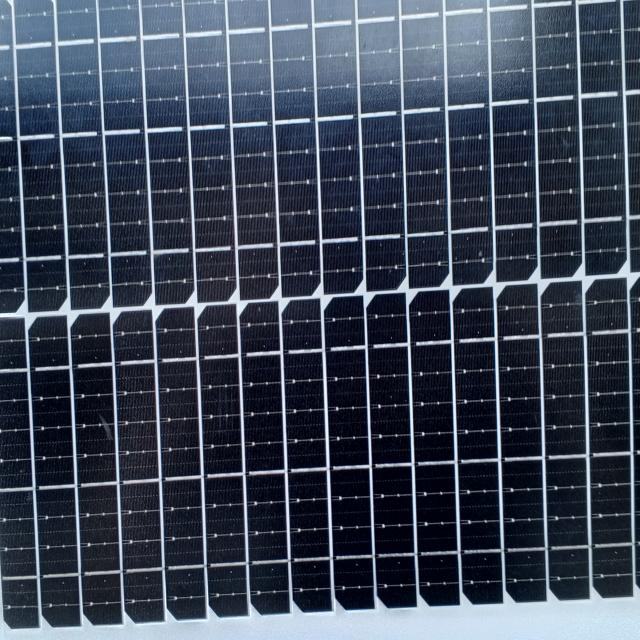Clean: (5, 2, 640, 632)
